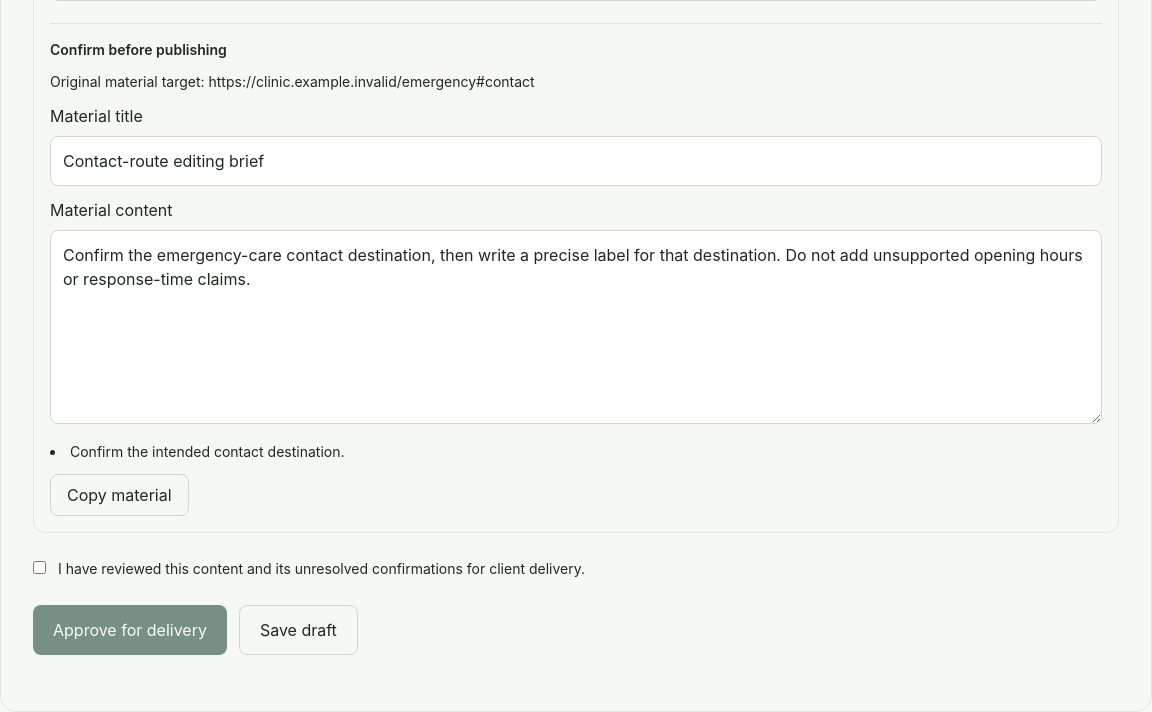
Capability delivery editor › reports copy failure without discarding the editable material
The image size is (1152, 712).
(page scrolled)
Click the button "Copy material": coordinates (119, 495) [50,474,189,516]
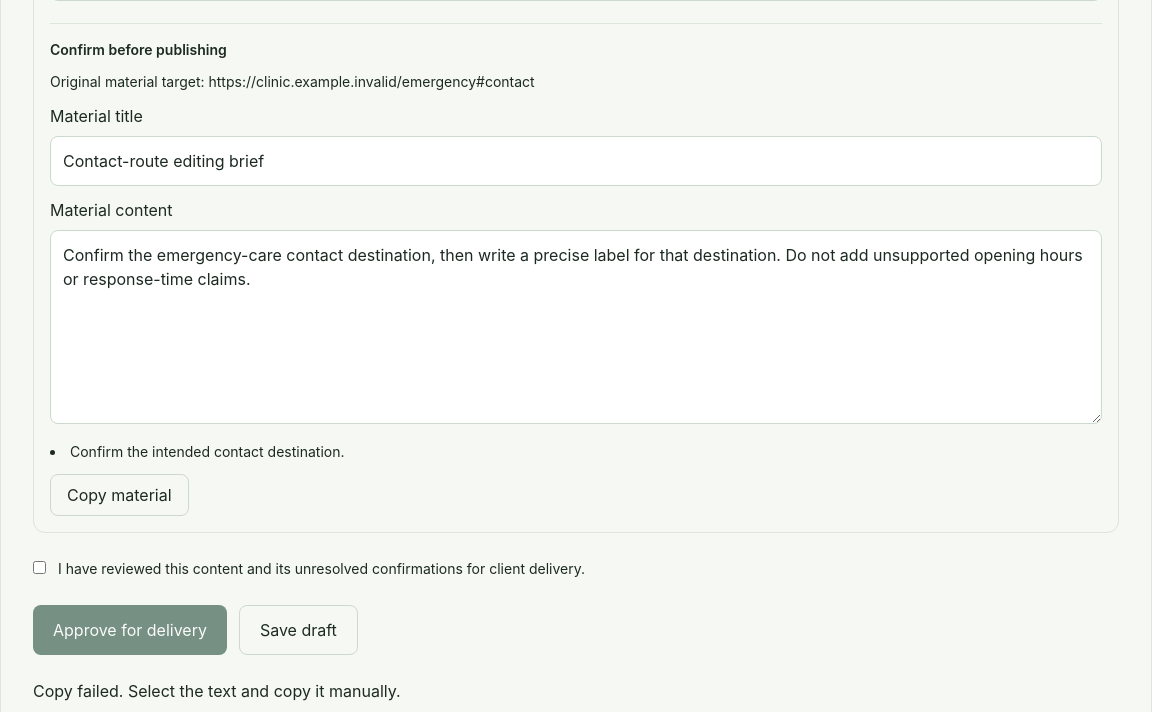
Expected: the text box labelled "Material content" holds "Confirm the emergency-care contact destination, then write a precise label for that destination. Do not add unsupported opening hours or response-time claims.", [50,230,1102,424]
Result: the text "Copy failed. Select the text and copy it manually." is shown at [33,681,401,701]
